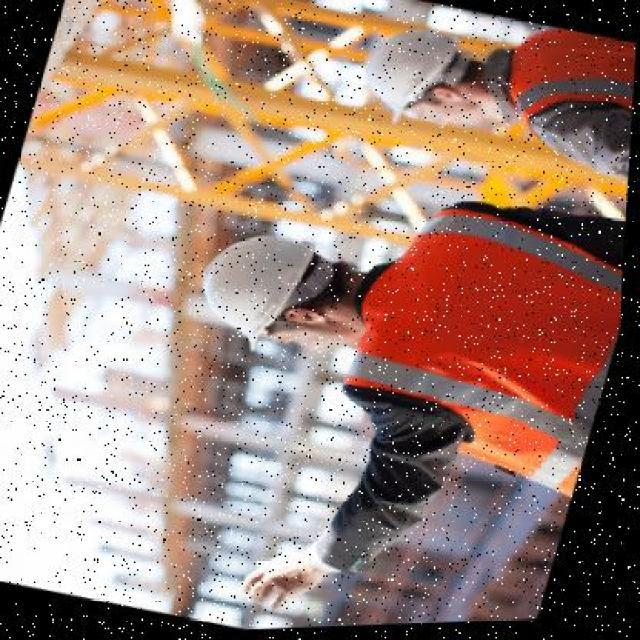helmet: (183, 212, 330, 367), (354, 9, 469, 137)
vest: (329, 177, 629, 495), (479, 22, 637, 212)
